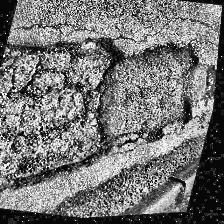pothole: (0, 20, 140, 202)
